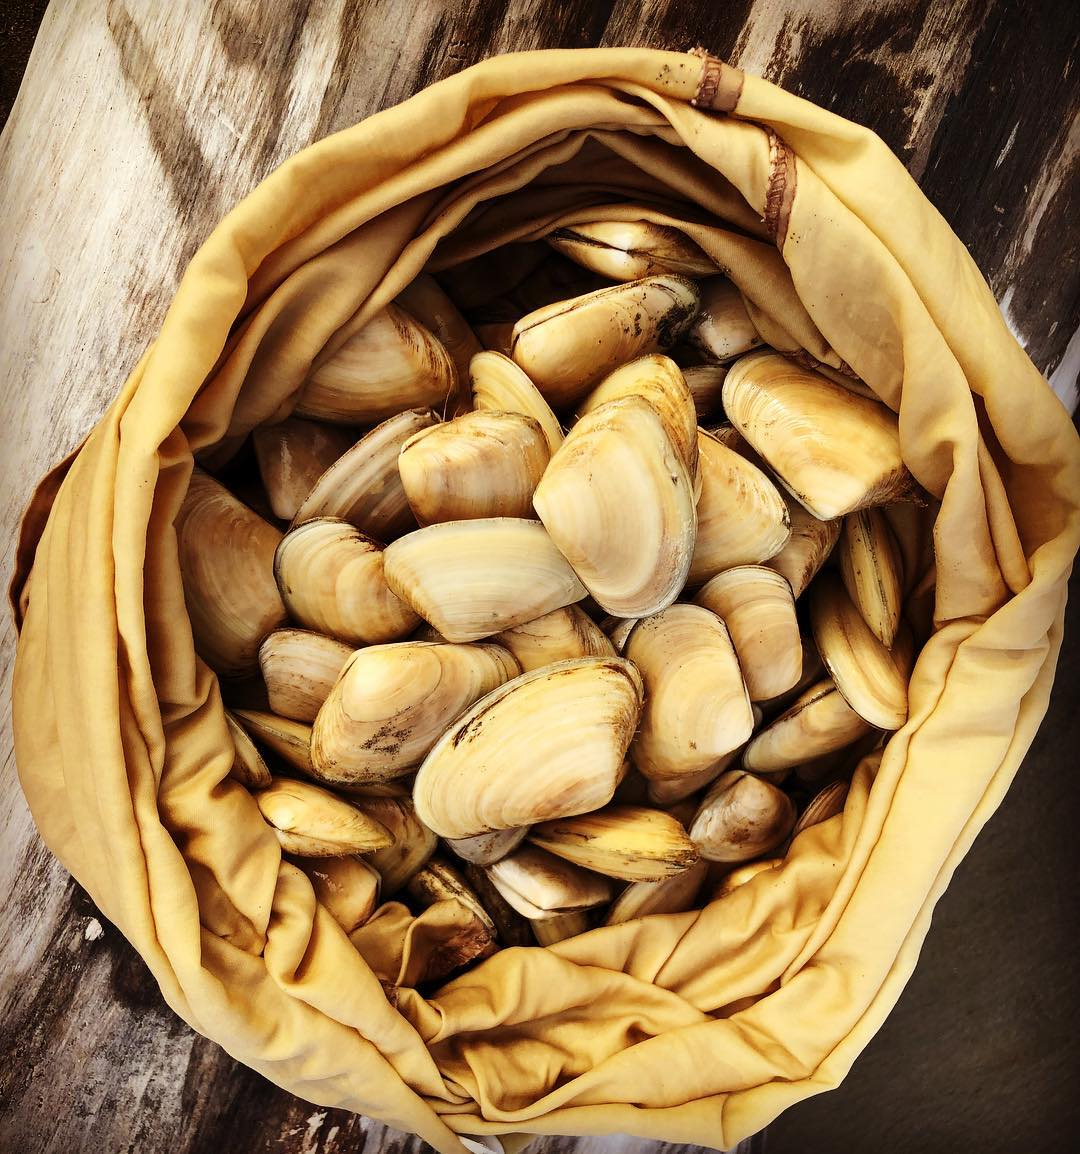tuatua: (412, 652, 650, 844), (524, 397, 697, 623), (716, 344, 910, 524), (309, 639, 527, 793), (380, 512, 588, 641), (628, 608, 766, 793), (171, 470, 294, 670), (500, 271, 701, 391), (400, 406, 548, 523), (810, 576, 915, 736), (689, 433, 795, 580), (700, 564, 807, 705), (257, 771, 403, 861), (539, 805, 700, 880), (272, 508, 366, 636), (833, 510, 912, 650), (683, 771, 795, 867), (260, 624, 351, 721)
